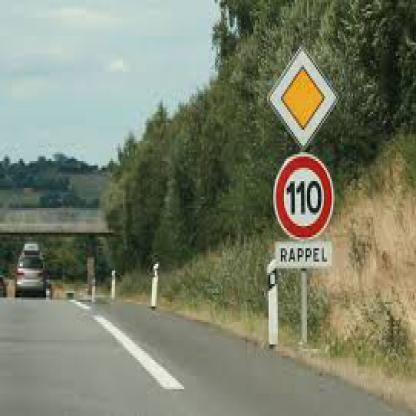Speed Limit 110: (276, 155, 333, 239)
